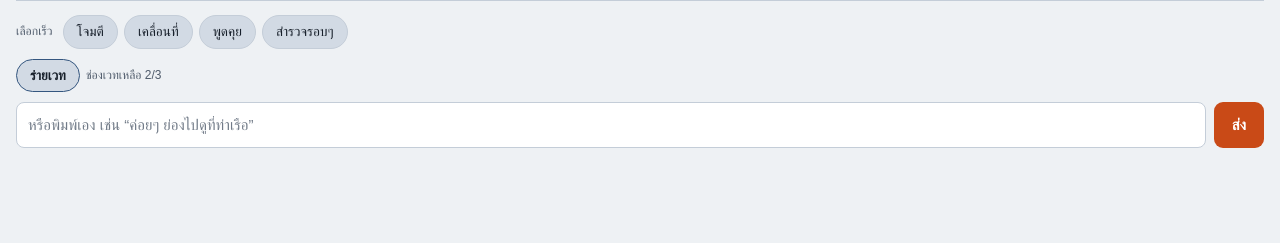
ActionInput spell menu (K4) › casts a spell that needs no target straight away
The image size is (1280, 243).
Click the button "ร่ายเวท". click: point(48, 75)
box: [16,59,80,92]
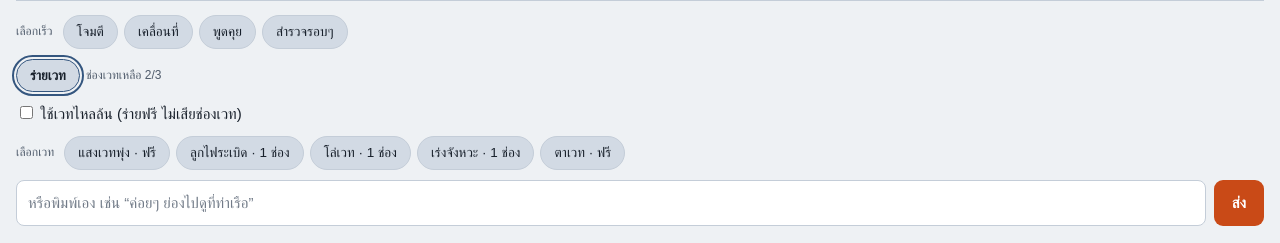
Click the button "ลูกไฟระเบิด · 1 ช่อง". click: point(240, 153)
box: [176,136,304,170]
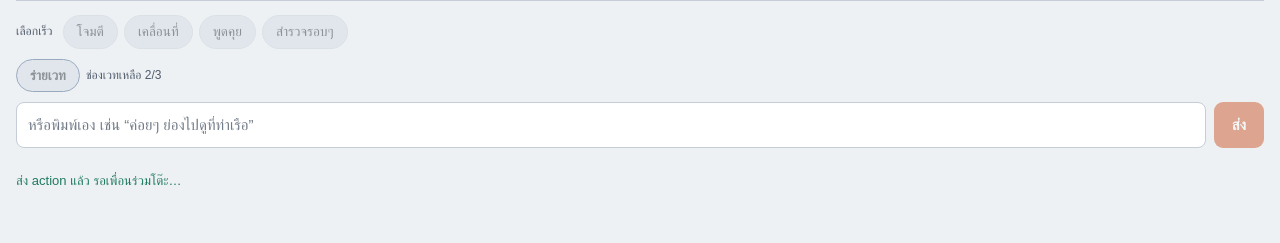
Result: the text "ส่ง action แล้ว รอเพื่อนร่วมโต๊ะ…" is shown at [16,173,182,188]
